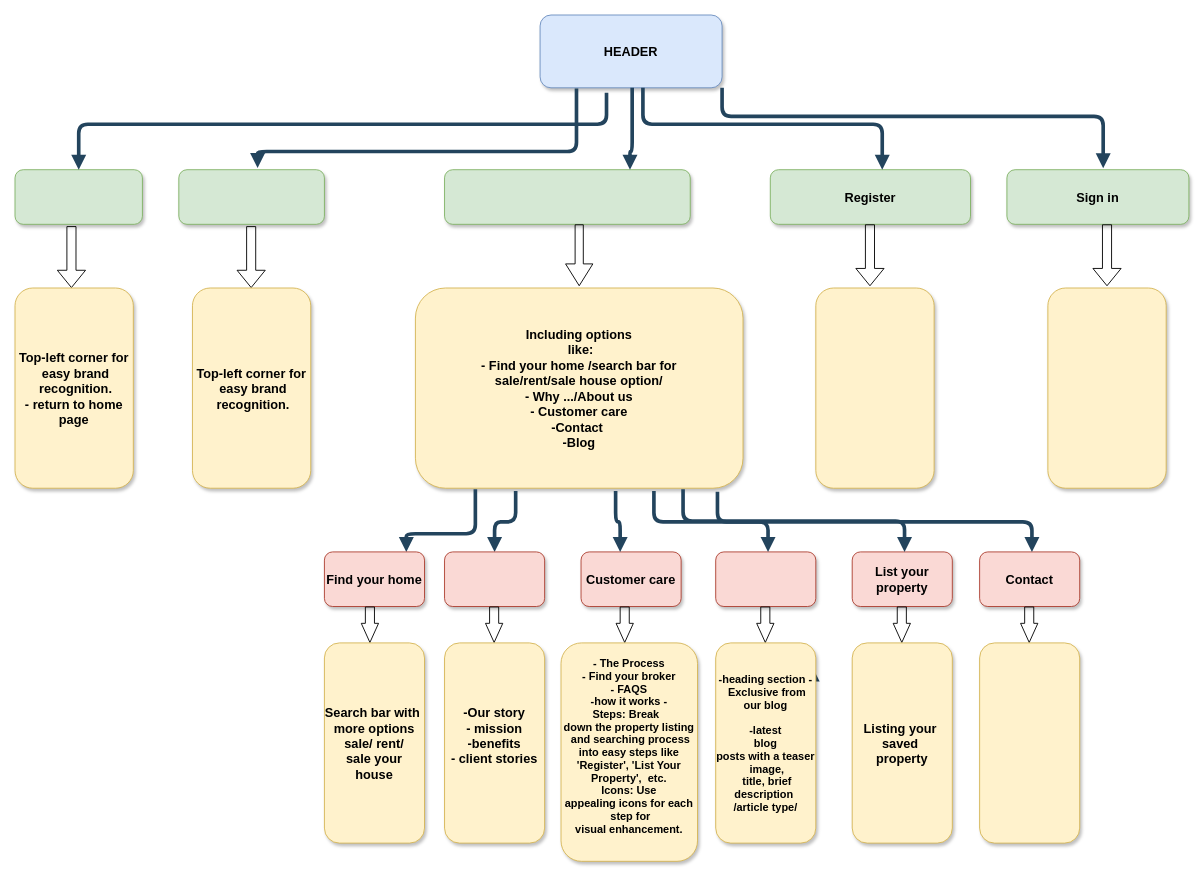
The diagram is 1204 pixels wide and 876 high, and some of its shapes have lost their labels. Here are the shapes that lost their labels. From the top down, the centre of each, then its label:
At (79,198): "LOGO".
At (252,198): "SLOGAN / MOTO".
At (568,198): "NAVIGATION MENU".
At (875,389): "Button for users to register an account".
At (1107,389): "Button for users to sign in - When you are sign you can see List your property".
At (495,580): "Why... / About us".
At (766,580): "Blog".
At (1030,743): "- contacts -interactive map /office location/".
